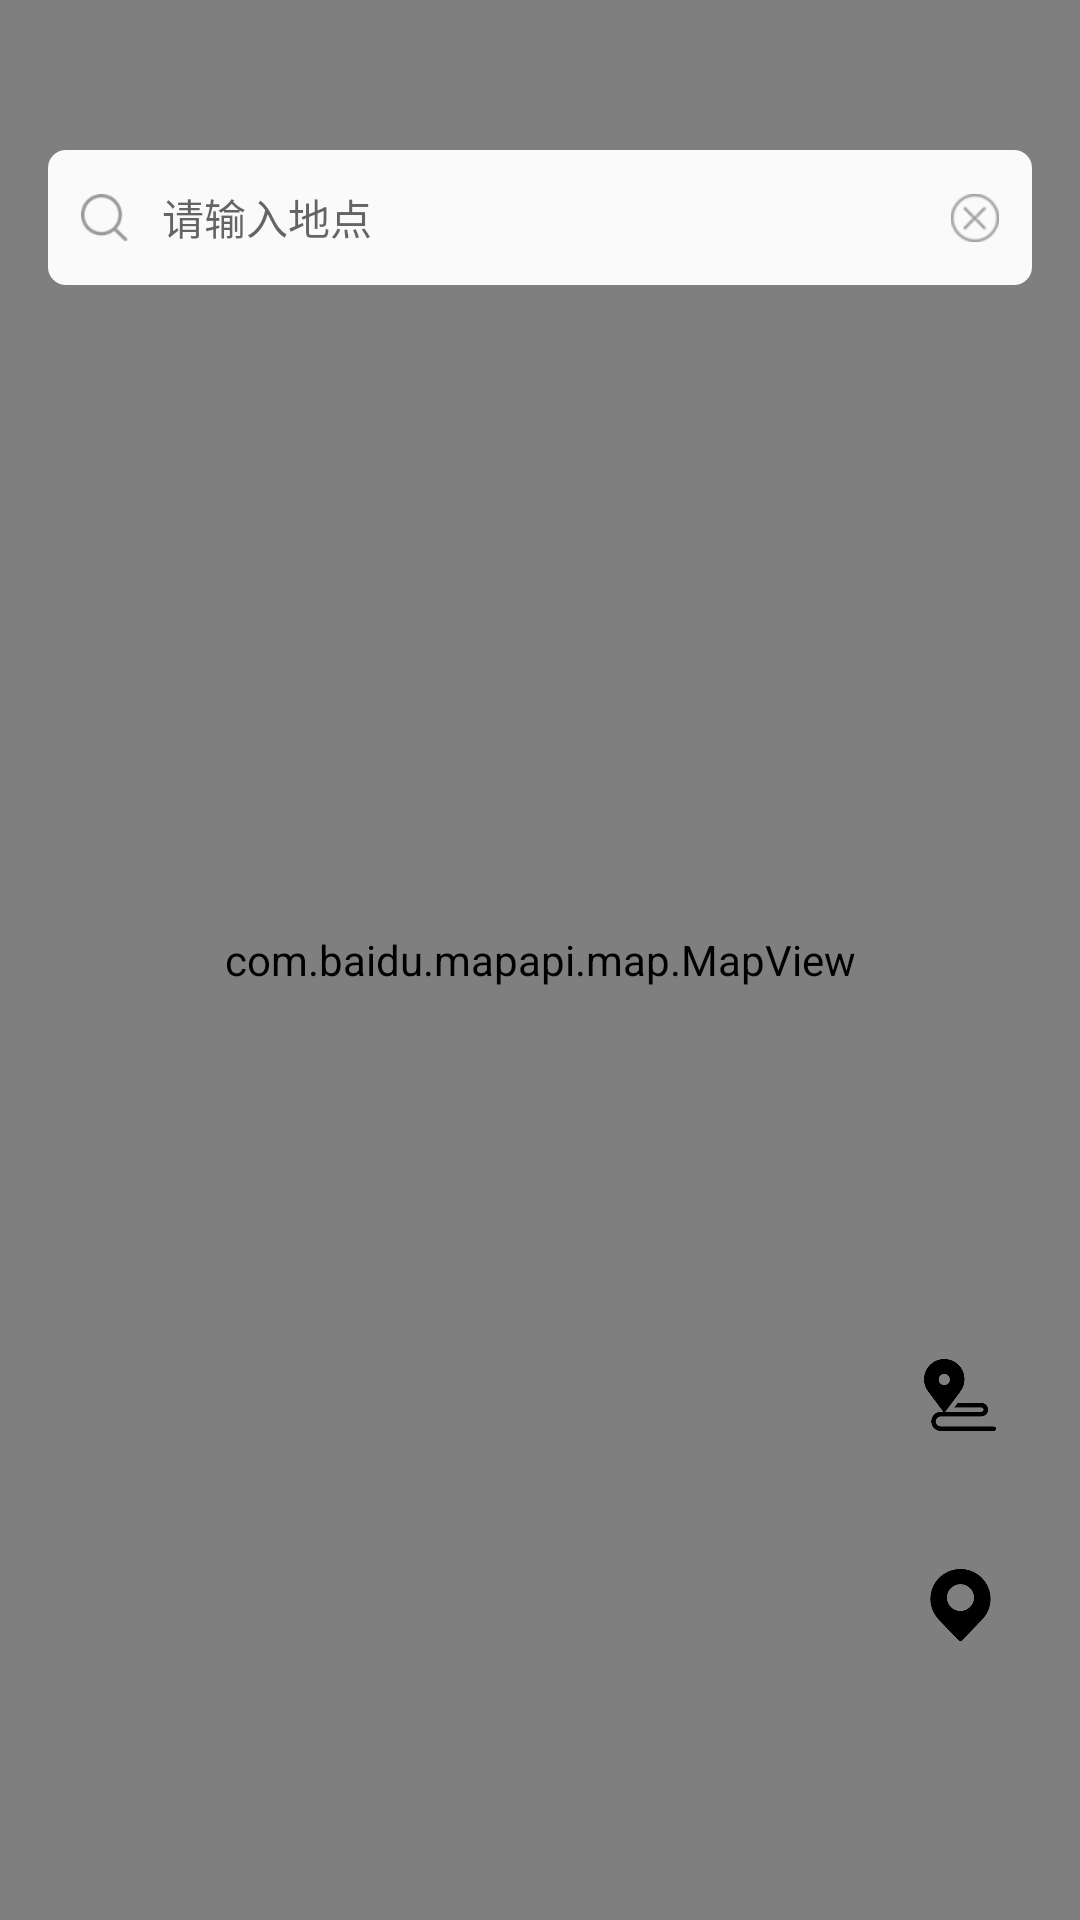

Icon bounding boxes for this 1080*1920 phone screenshot, format (x1, y1, x2, y2):
clear: (951, 194, 999, 242)
positioning: (930, 1569, 991, 1641)
search: (81, 194, 128, 241)
trajectory: (924, 1359, 996, 1431)
